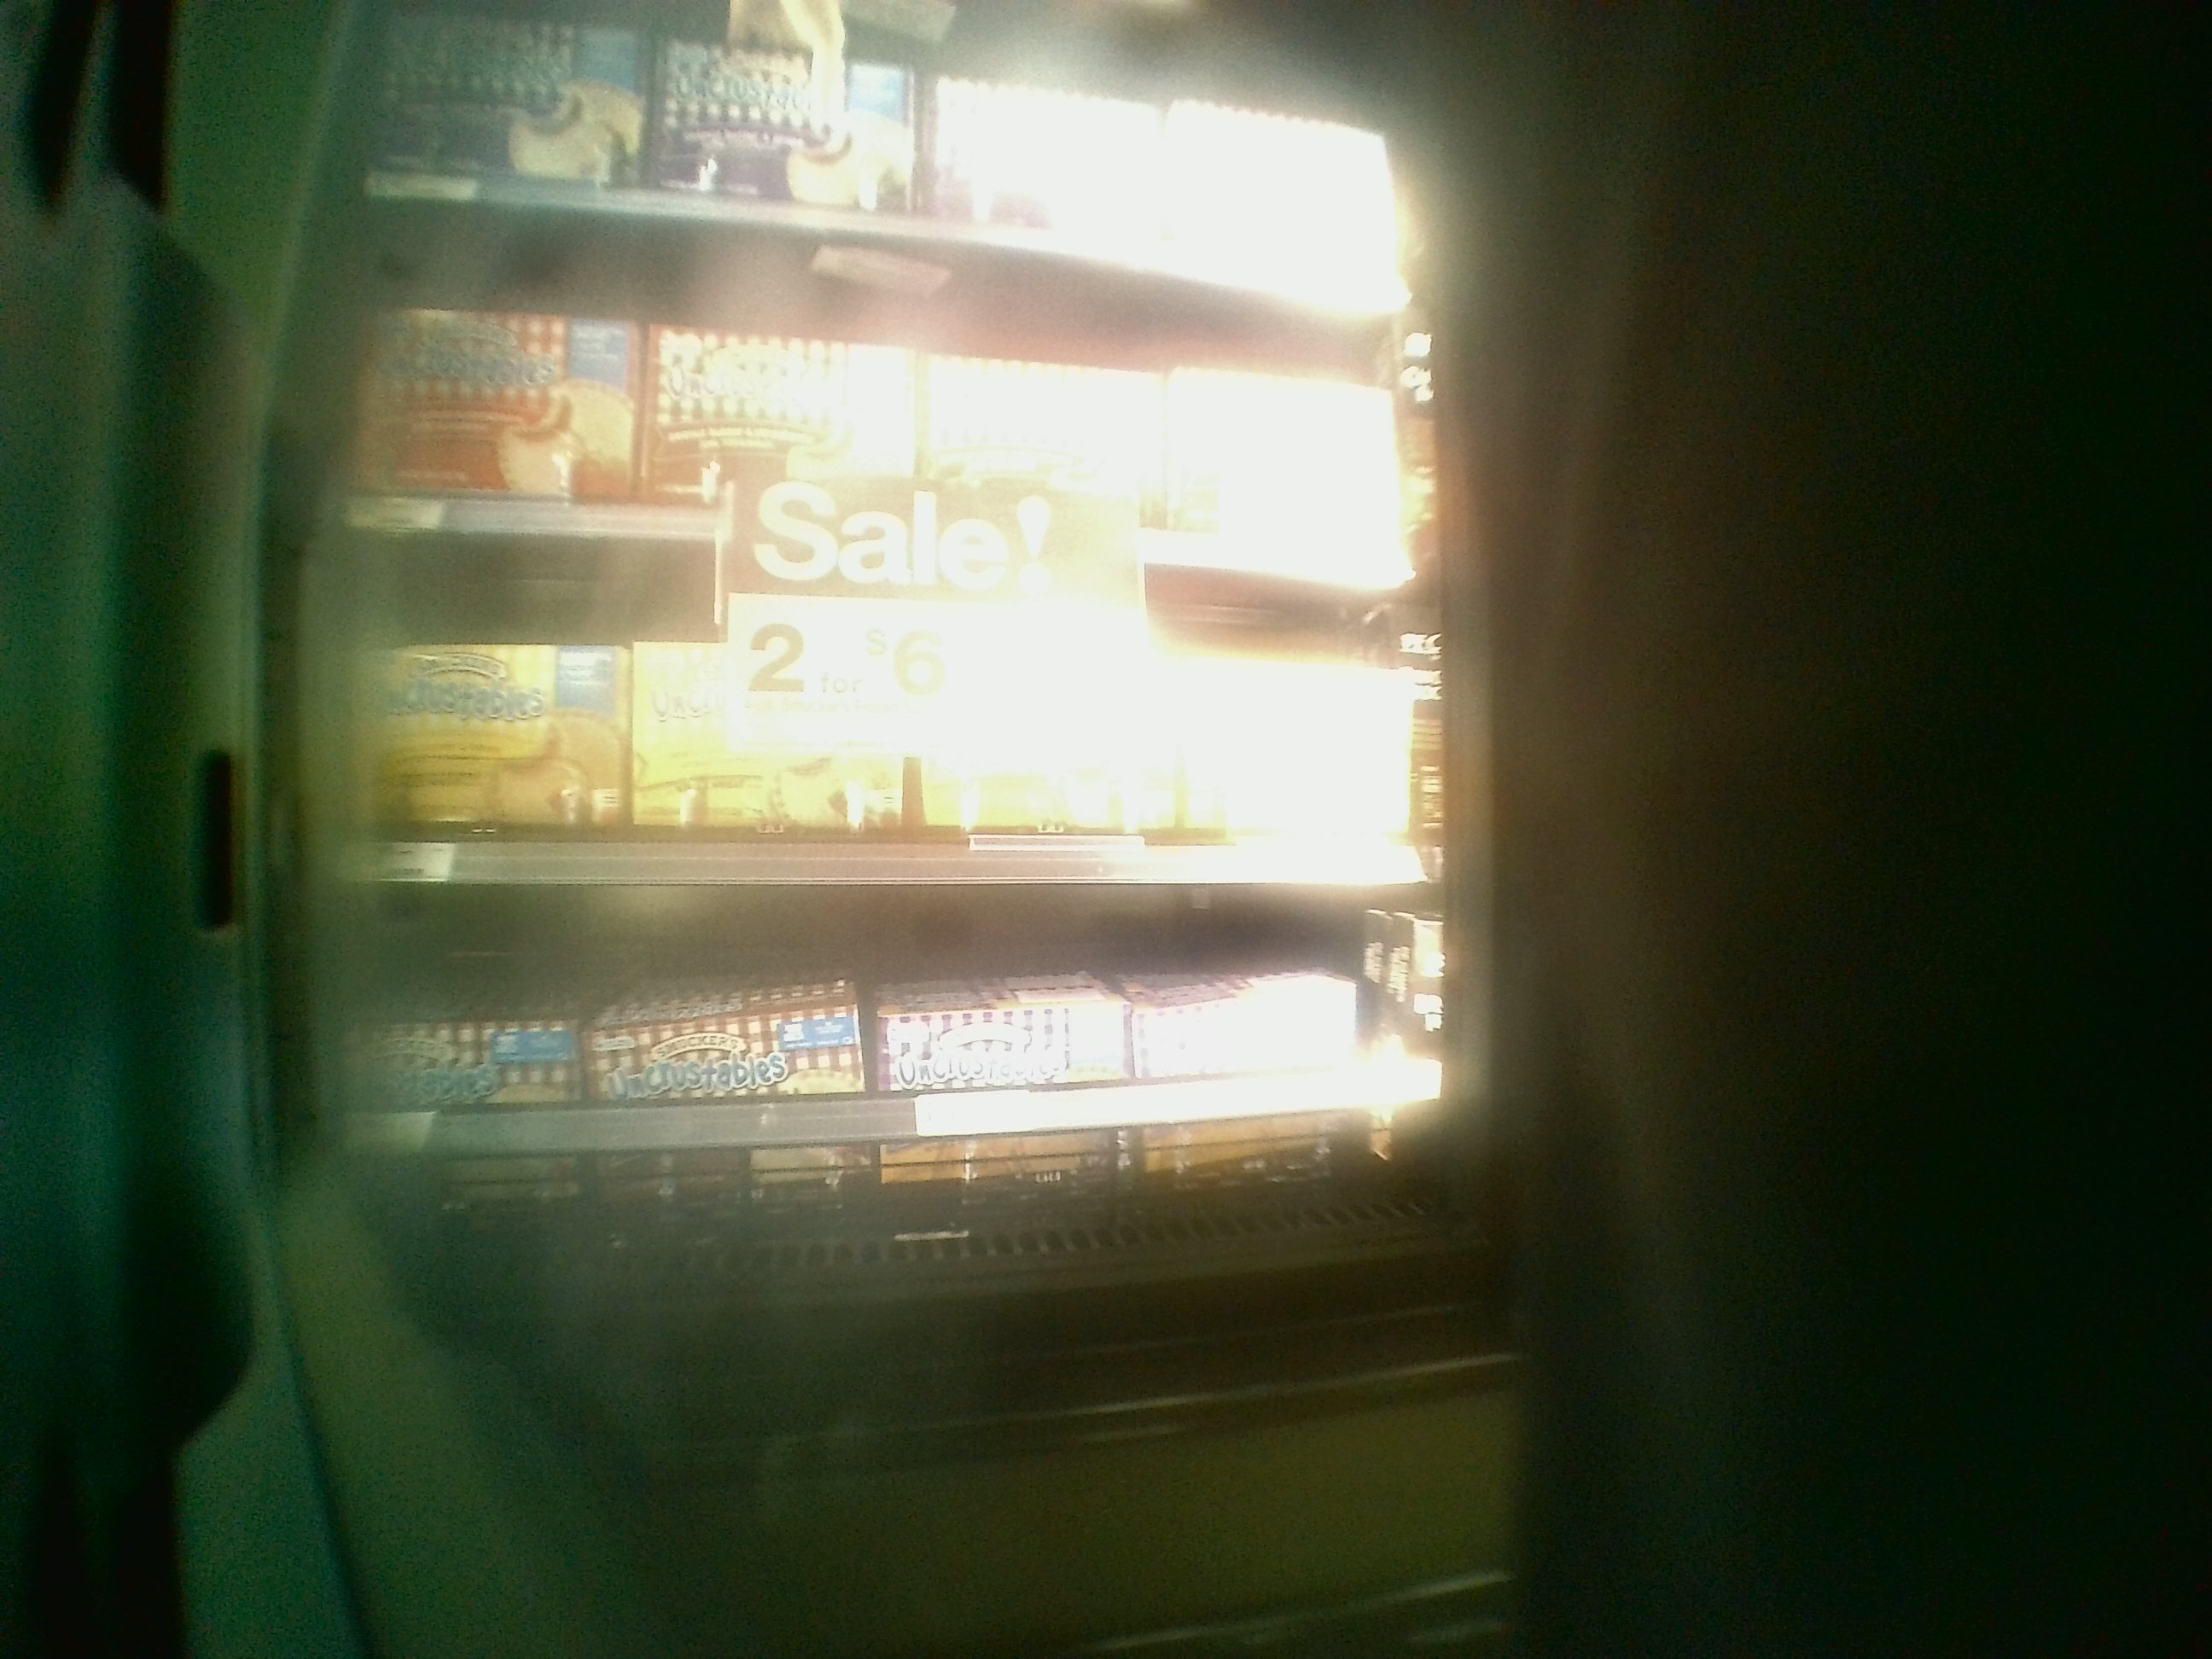shelf: (341, 871, 1442, 1283), (317, 523, 1433, 878), (345, 199, 1428, 561)
